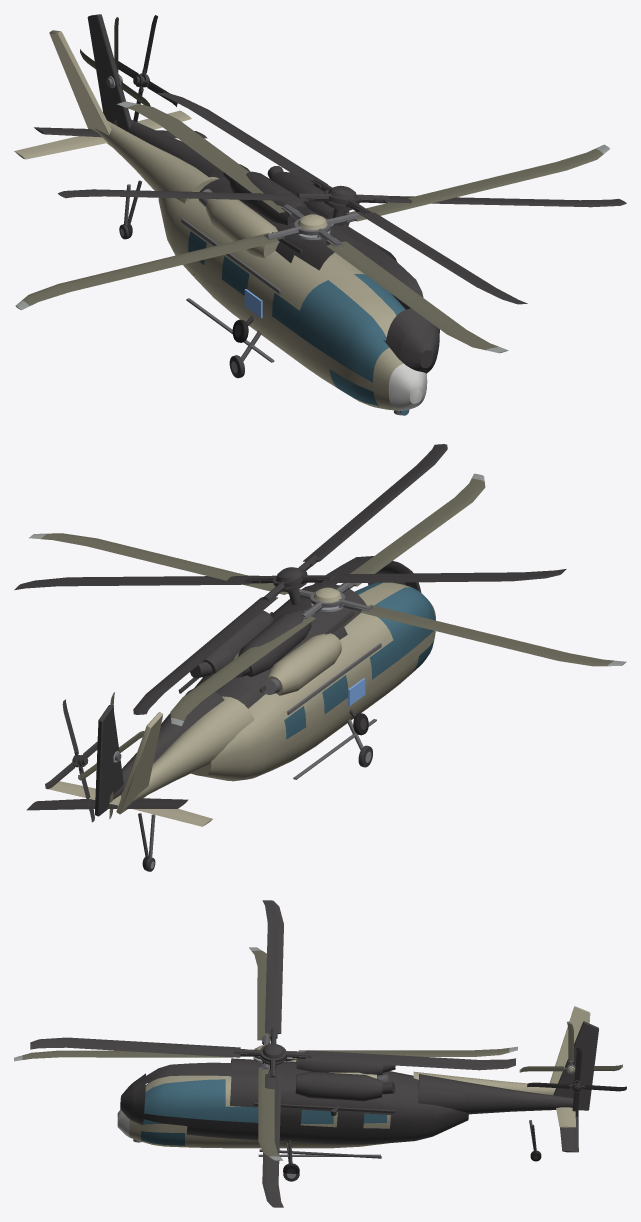
Rendered from navalHelicopter__sh_60f_israel.glb.
3 renders of one model, top to bottom at view 1: azimuth 30°, elevation 25°; view 2: azimuth 150°, elevation 25°; view 3: azimuth 270°, elevation 25°, orthographic. The views are drawn at different scales.
Parts seen in each view (by area): view 1: Fuselage_Mesh, Wreck, Rotor_Main_Mesh, Engines_Mesh, Landing_Gear_Mesh, Rotor_Tail_Mesh; view 2: Fuselage_Mesh, Wreck, Rotor_Main_Mesh, Engines_Mesh, Landing_Gear_Mesh; view 3: Wreck, Fuselage_Mesh, Rotor_Main_Mesh, Rotor_Tail_Mesh.
Boxes of the visible parts, x1,y1,x2,y2 form: Fuselage_Mesh: [14, 30, 427, 415]; Wreck: [34, 14, 626, 373]; Rotor_Main_Mesh: [15, 101, 609, 353]; Engines_Mesh: [198, 189, 279, 258]; Landing_Gear_Mesh: [119, 184, 261, 378]; Rotor_Tail_Mesh: [80, 17, 150, 126]; Fuselage_Mesh: [45, 582, 435, 826]; Wreck: [14, 444, 566, 869]; Rotor_Main_Mesh: [29, 473, 626, 726]; Engines_Mesh: [233, 633, 341, 695]; Landing_Gear_Mesh: [145, 719, 372, 871]; Wreck: [30, 900, 626, 1207]; Fuselage_Mesh: [117, 1006, 590, 1156]; Rotor_Main_Mesh: [14, 947, 517, 1160]; Rotor_Tail_Mesh: [519, 1021, 622, 1073].
Size of what is drawn, in the model's own units: 16.77 by 6.2 by 19.89.
